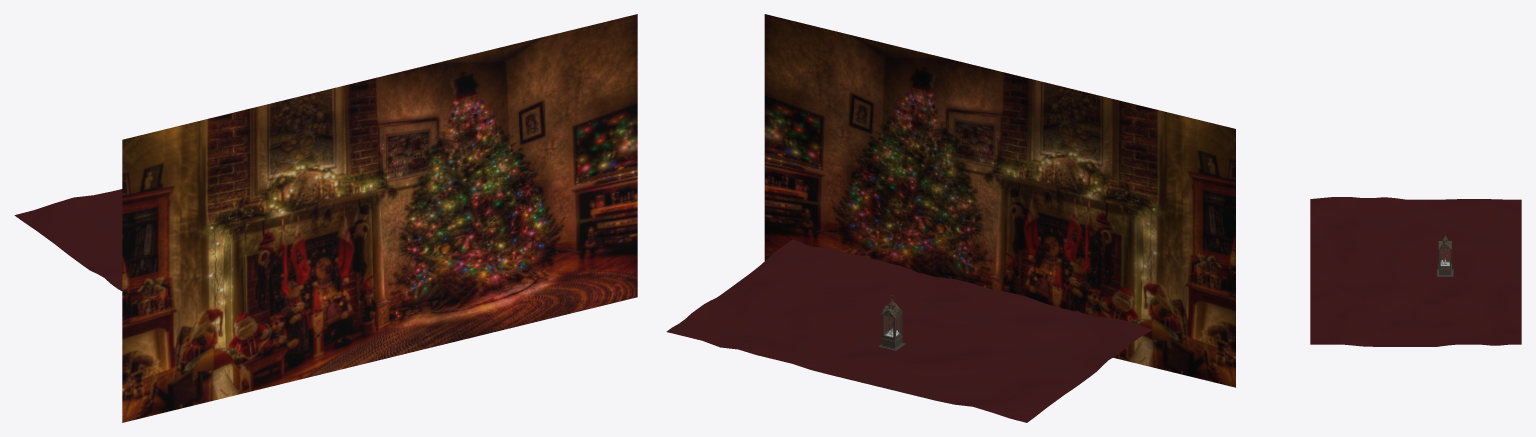
File: lighter - 2.fbx
3 views of the same model, side by side, from view 1: azimuth 30°, elevation 25°; view 2: azimuth 150°, elevation 25°; view 3: azimuth 270°, elevation 25° (orthographic). The views are drawn at different scales.
Parts seen in each view (by area): view 1: pPlane5, pPlane6; view 2: pPlane5, pPlane6, polySurface13; view 3: pPlane6, polySurface13.
Boxes of the visible parts, x1=… form: pPlane5: x1=122, y1=14, x2=637, y2=422; pPlane6: x1=14, y1=189, x2=122, y2=290; pPlane5: x1=764, y1=14, x2=1235, y2=387; pPlane6: x1=666, y1=239, x2=1152, y2=422; polySurface13: x1=878, y1=295, x2=905, y2=350; pPlane6: x1=1310, y1=197, x2=1521, y2=346; polySurface13: x1=1437, y1=231, x2=1453, y2=276.
Size of the model in its own units: 546 by 287 by 309.
